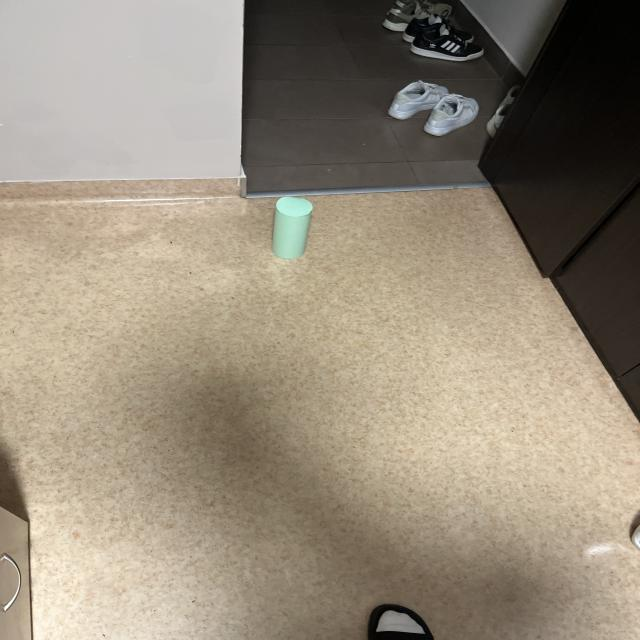meta: (272, 197, 312, 259)
